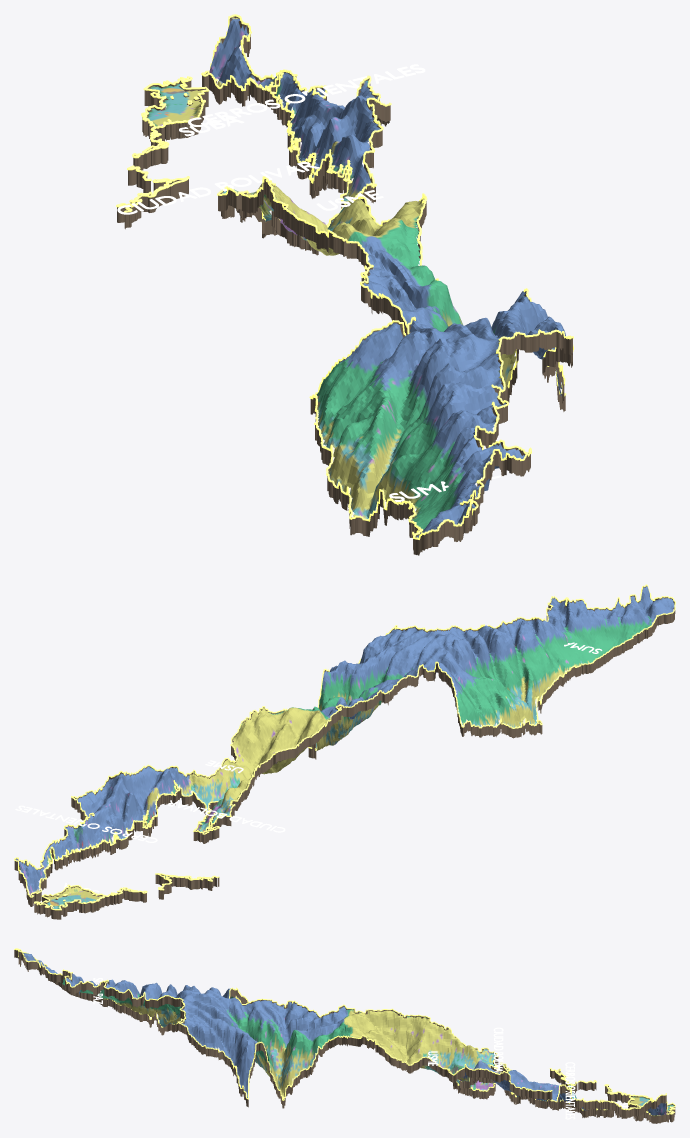
Rendered from modelo_bogota_rural.glb.
The picture shows the model from 3 angles, top to bottom: view 1: azimuth 30°, elevation 25°; view 2: azimuth 150°, elevation 25°; view 3: azimuth 270°, elevation 25°; orthographic projection. The views are drawn at different scales.
Visible parts, largest first — view 1: Terreno_Categorias_POT, Falda_Terreno, Limite_0, Lugar_CERROS_ORIENTALES, Limite_11, Lugar_CIUDAD_BOLIVAR; view 2: Terreno_Categorias_POT, Falda_Terreno, Limite_0, Lugar_CERROS_ORIENTALES, Limite_11; view 3: Terreno_Categorias_POT, Falda_Terreno, Limite_0, Lugar_CERROS_ORIENTALES, Lugar_CIUDAD_BOLIVAR.
Part boxes in pixels (<box>): Terreno_Categorias_POT: <box>135,17,565,537</box>; Falda_Terreno: <box>117,16,572,555</box>; Limite_0: <box>201,14,573,539</box>; Lugar_CERROS_ORIENTALES: <box>188,64,425,126</box>; Limite_11: <box>132,76,209,158</box>; Lugar_CIUDAD_BOLIVAR: <box>117,162,319,214</box>; Terreno_Categorias_POT: <box>16,586,674,908</box>; Falda_Terreno: <box>14,586,675,919</box>; Limite_0: <box>14,584,675,897</box>; Lugar_CERROS_ORIENTALES: <box>15,805,157,842</box>; Limite_11: <box>34,884,147,910</box>; Terreno_Categorias_POT: <box>23,953,673,1116</box>; Falda_Terreno: <box>14,950,675,1123</box>; Limite_0: <box>14,948,669,1115</box>; Lugar_CERROS_ORIENTALES: <box>565,1062,575,1119</box>; Lugar_CIUDAD_BOLIVAR: <box>493,1027,503,1072</box>.
Size of what is drawn, in the model's own units: 59.16 by 17.31 by 122.
